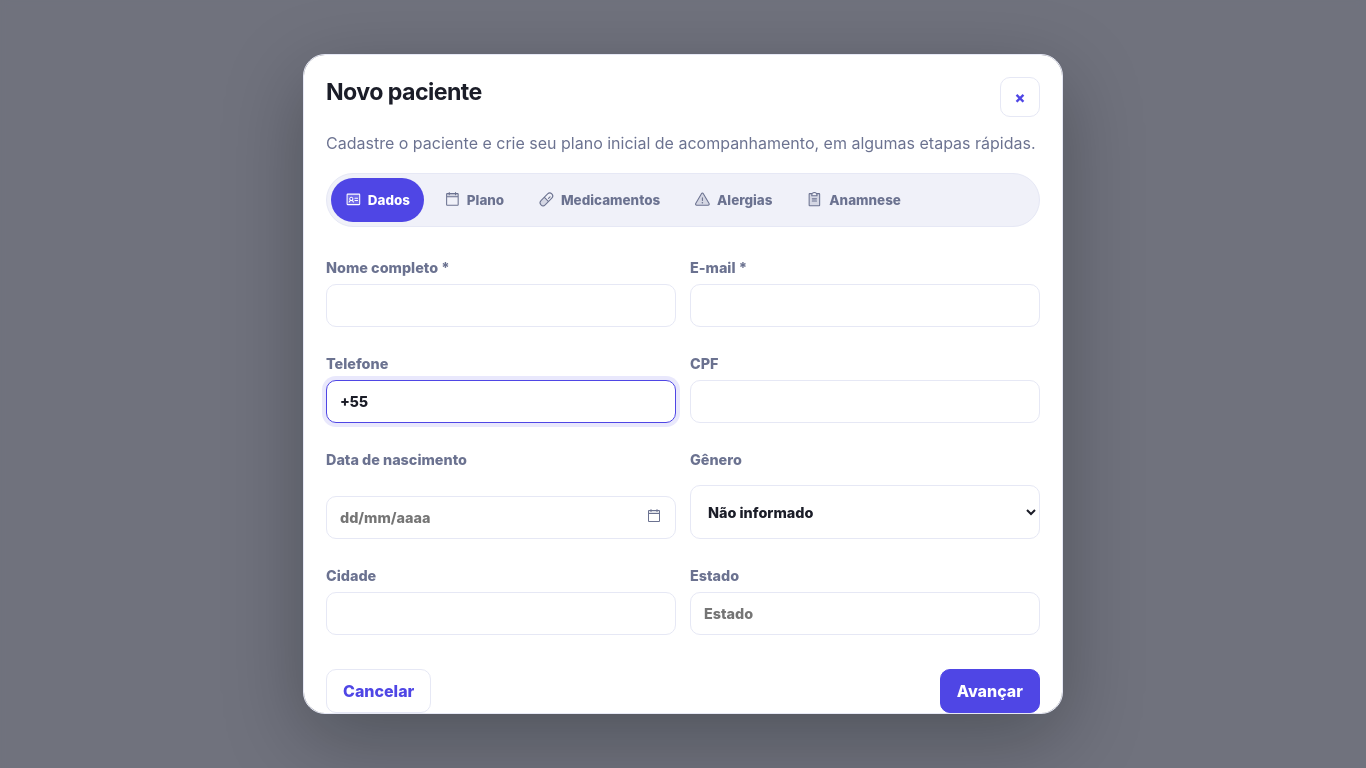
Test: cadastro profissional de pacientes › mantém o foco no campo durante a digitação e aplica máscara de telefone
Step 1. Replace the text in the field labelled "Telefone" with "11999999999" → (501, 401), box [326,380,676,423]
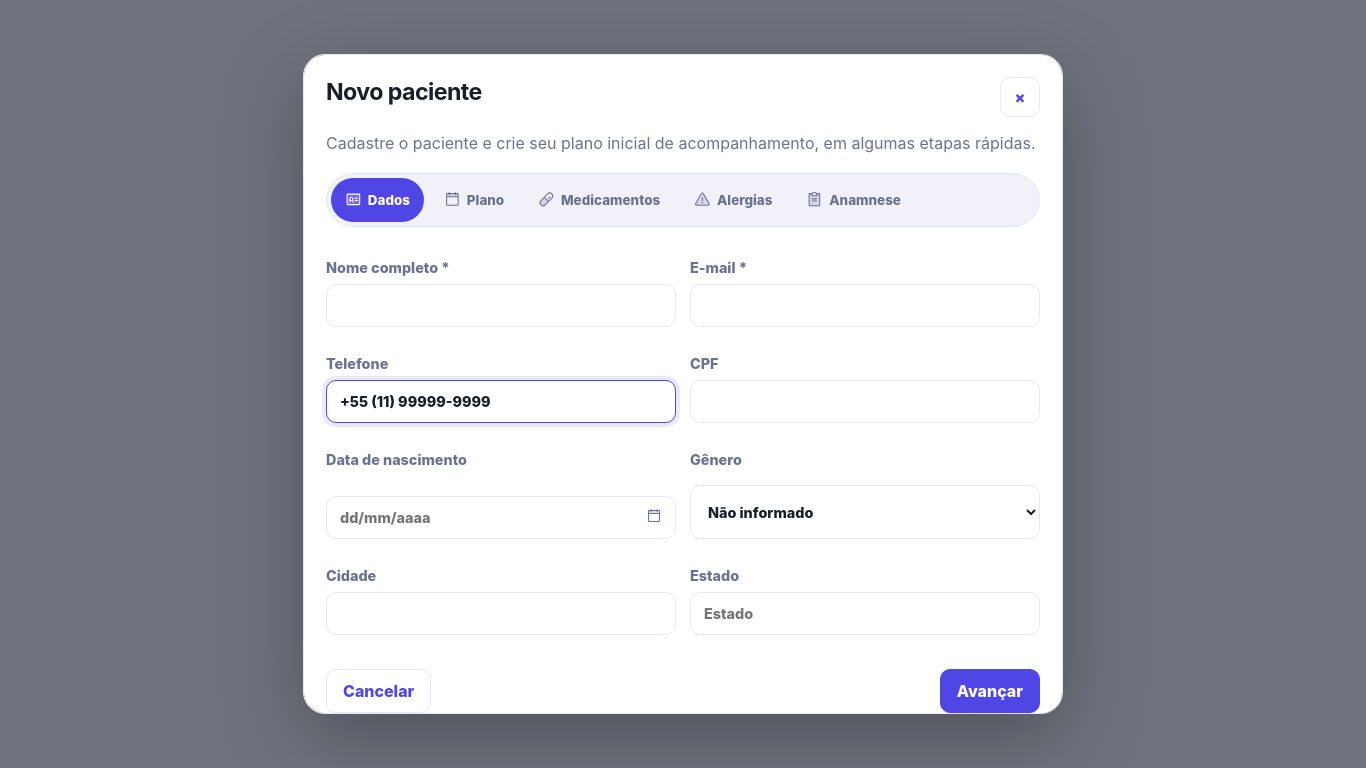
expect the field labelled "Telefone" holds "+55 (11) 99999-9999": met, box [326,380,676,423]
